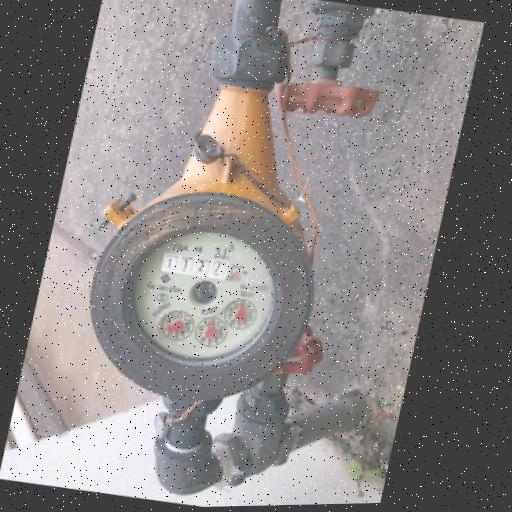1: (163, 254, 178, 271), (179, 256, 194, 273)
2: (194, 259, 209, 275)
4: (229, 264, 242, 280)
7: (211, 261, 226, 277)
border_water_meter_number: (159, 251, 245, 285)
